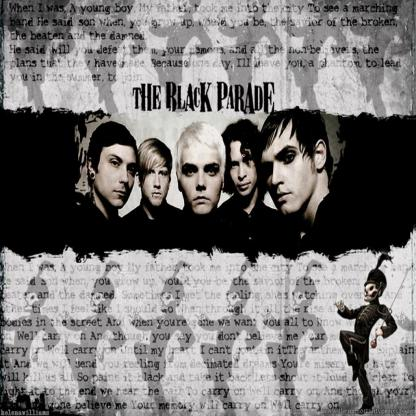face: (263, 124, 314, 216), (180, 142, 222, 214), (99, 144, 138, 208), (230, 140, 259, 198), (144, 155, 171, 208)
